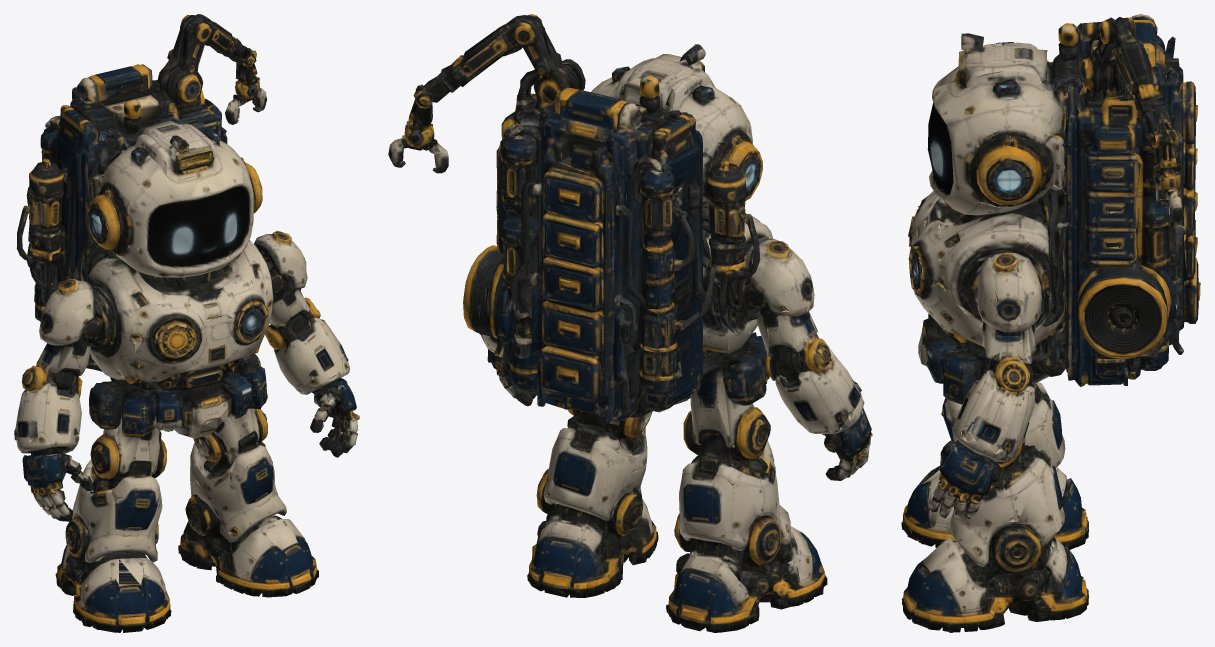
File: fabricator-model-candidate-01.glb
The picture shows the model from 3 angles, left to right: view 1: azimuth 30°, elevation 25°; view 2: azimuth 150°, elevation 25°; view 3: azimuth 270°, elevation 25°; orthographic projection. The views are drawn at different scales.
Bounding box in the file's own units: 1.34 × 2 × 0.9194.
1 material, 1 textured.
